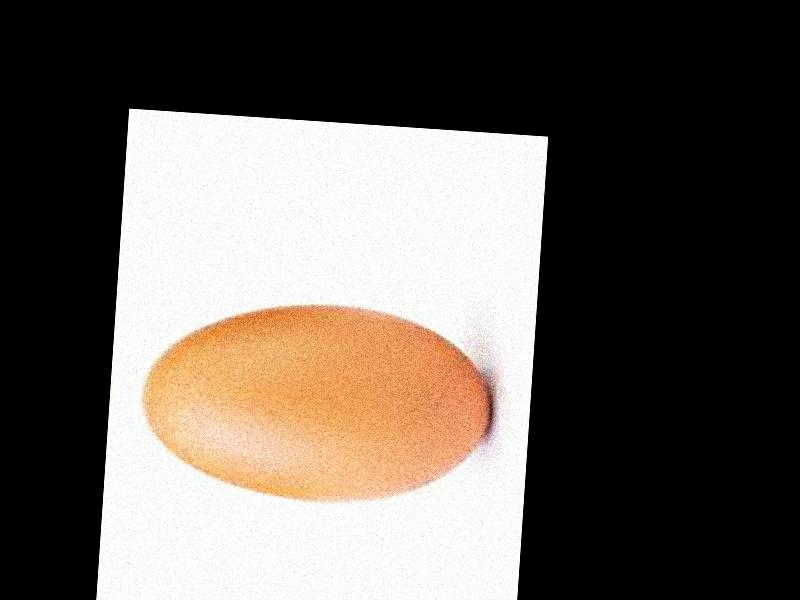Eggs: (136, 294, 496, 509)
